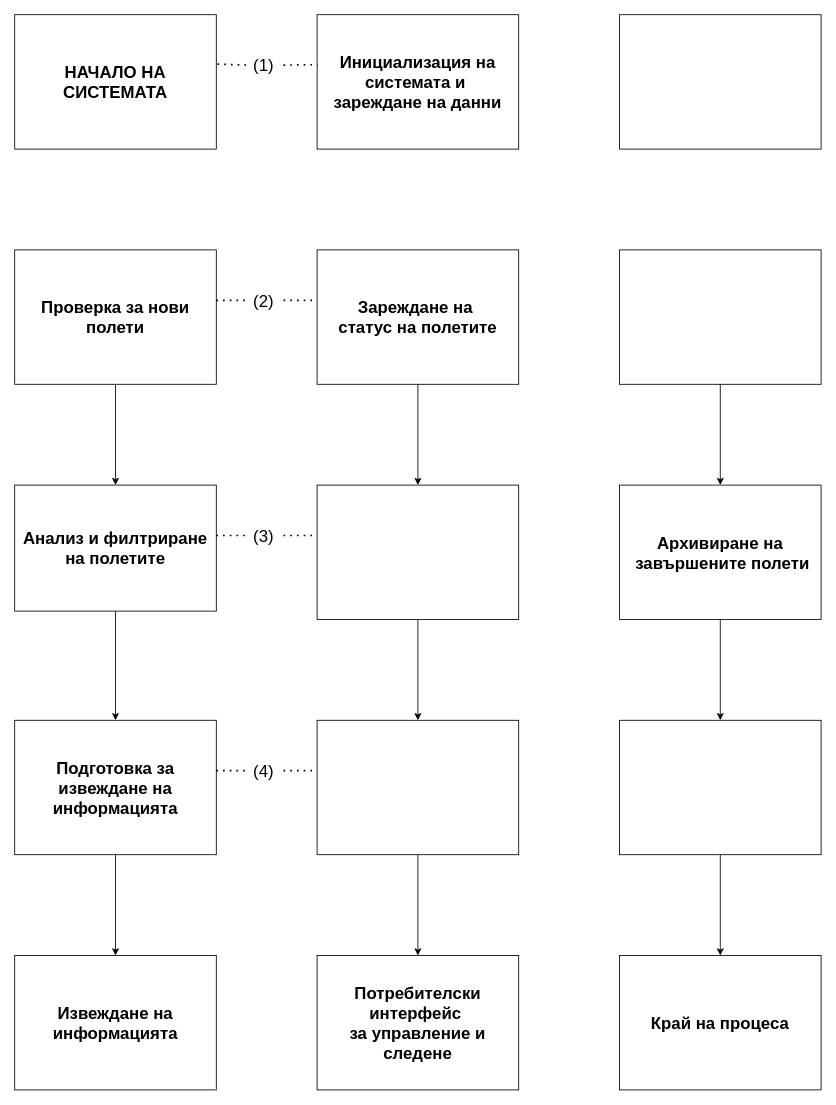
The diagram is 836 pixels wide and 1105 high, and some of its shapes have lost their labels. The shapes that lost their labels are listed below. From the top down, each one's centre as x and y in pixels, then its label:
At point 720,81: "Създаване на данни за полетите".
At point 720,316: "Обновяване на статуса на полетите".
At point 417,552: "Извеждане на статус на полетите".
At point 417,787: "Известяване за промени в полетите".
At point 720,787: "потребителски интерфейс за управление и следене на статуса на полетите".
